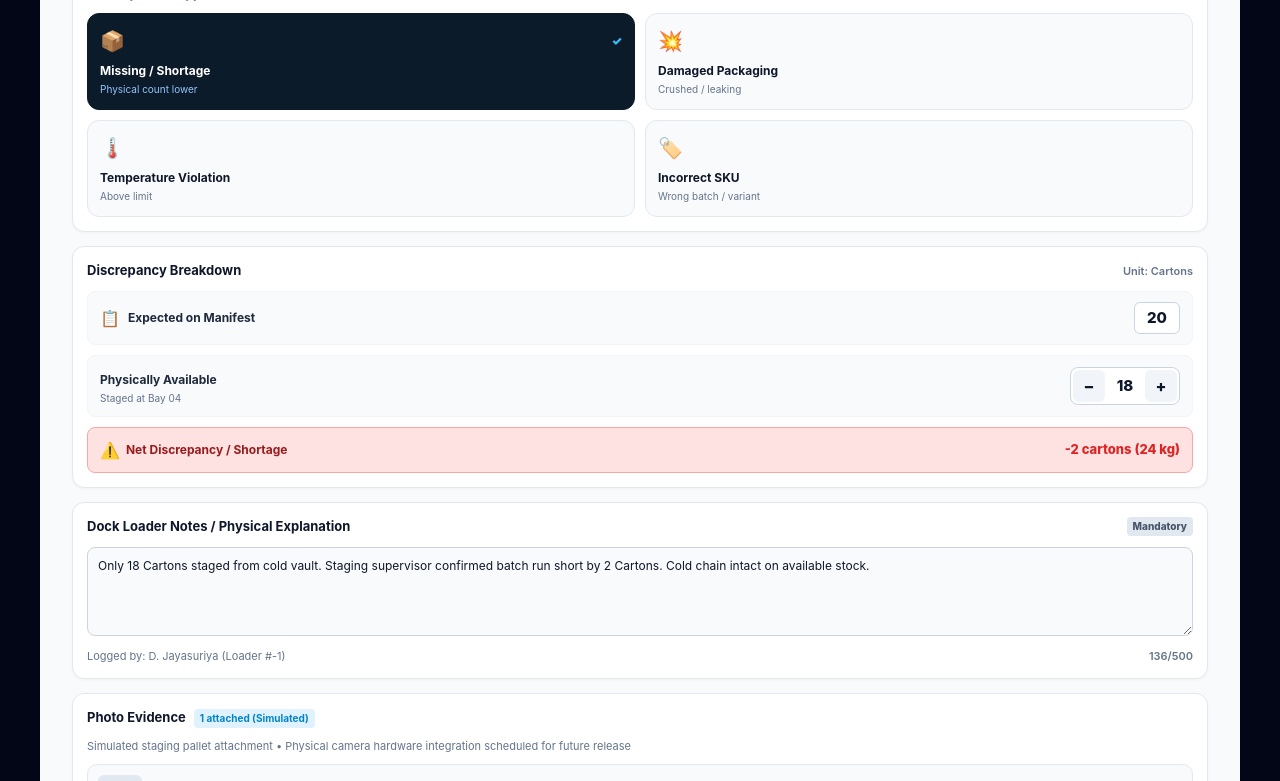
it: Loader Feature 3: LS-06 Report Loading Issue › 3. updates physically available quantity via stepper and recalculates net discrepancy
This screenshot has width=1280, height=781.
(page scrolled)
Expected: the heading "Discrepancy Breakdown" is shown, x1=87 y1=261 x2=241 y2=281
Expected: the text "-2 cartons (24 kg)" is shown, x1=1065 y1=440 x2=1180 y2=460
// Click '-' button to reduce available quantity to 17
Click the button named "Decrease physically available quantity" at (1089, 386), box x1=1073 y1=370 x2=1105 y2=402
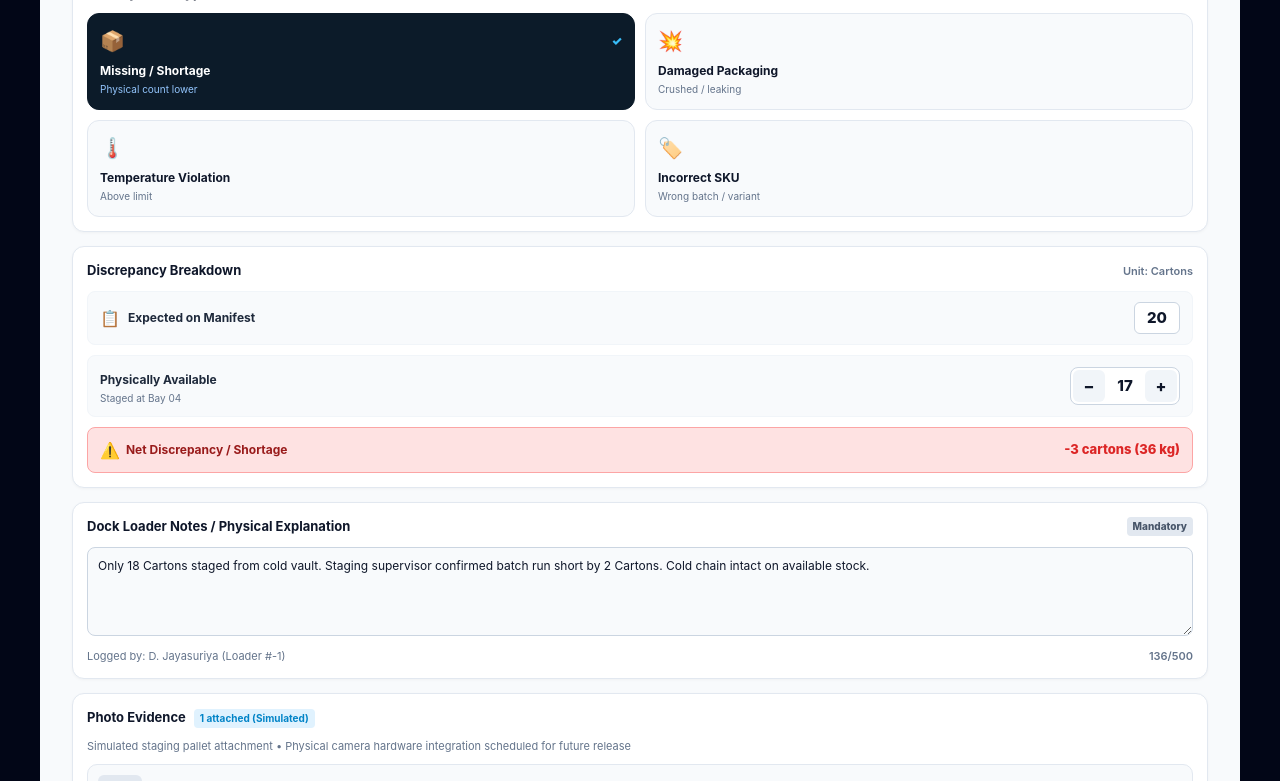
Expected: the text "-3 cartons (36 kg)" is shown, x1=1064 y1=440 x2=1180 y2=460
// Click '+' button to increase available quantity back to 18
Click the button named "Increase physically available quantity" at (1161, 386), box x1=1145 y1=370 x2=1177 y2=402
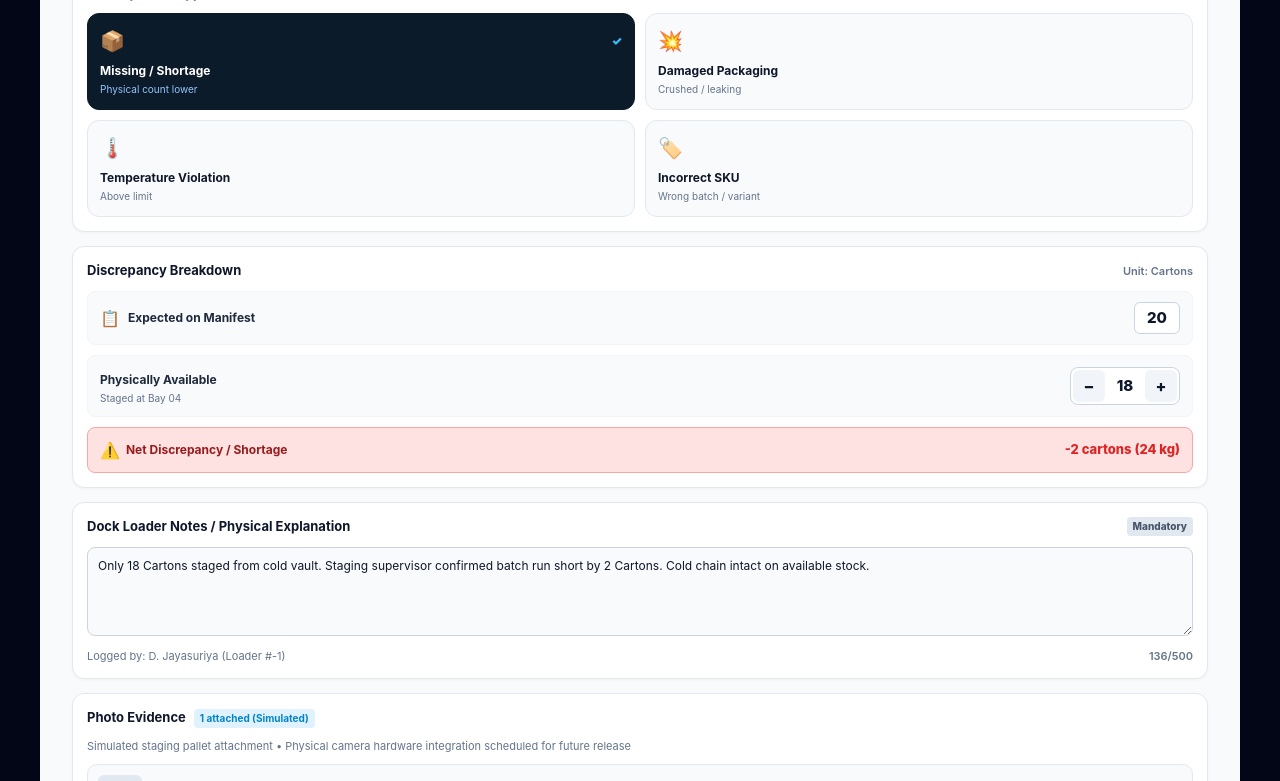
Expected: the text "-2 cartons (24 kg)" is shown, x1=1065 y1=440 x2=1180 y2=460
